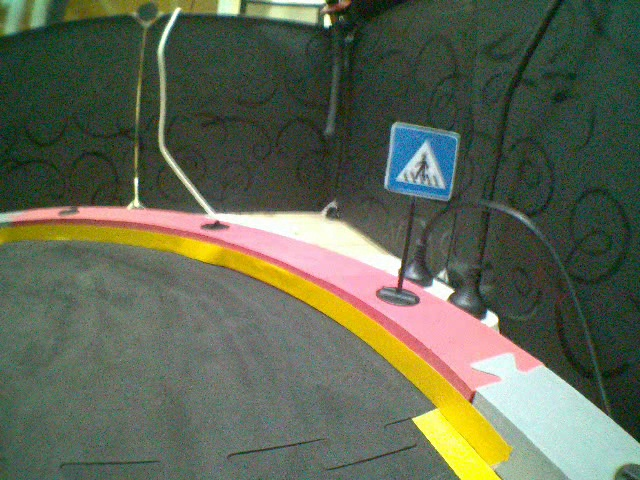crossing: (382, 121, 460, 202)
